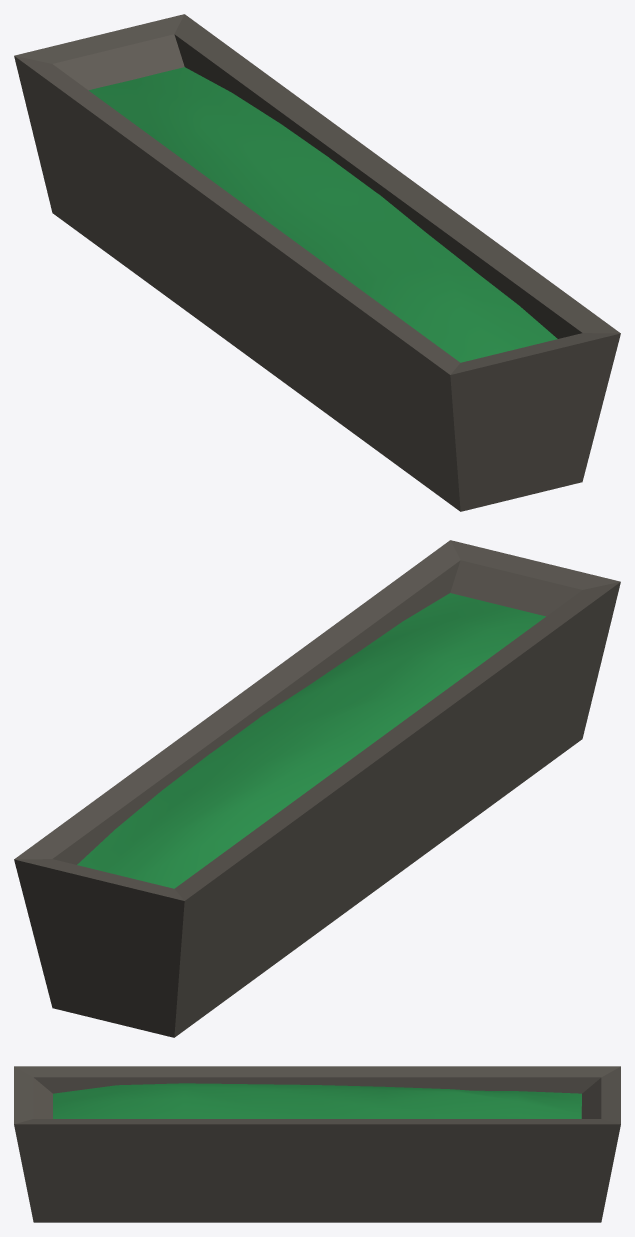
File: canteiro_de_plantas.fbx
The picture shows the model from 3 angles, top to bottom: view 1: azimuth 30°, elevation 25°; view 2: azimuth 150°, elevation 25°; view 3: azimuth 270°, elevation 25°; orthographic projection. The views are drawn at different scales.
Parts seen in each view (by area): view 1: Cube.051; view 2: Cube.051; view 3: Cube.051.
Part boxes in pixels (x1,y1,x2,y2): Cube.051: (14,14,620,511); Cube.051: (14,540,620,1037); Cube.051: (14,1066,620,1222).
Bounding box in the file's own units: 70 × 60 × 310.
